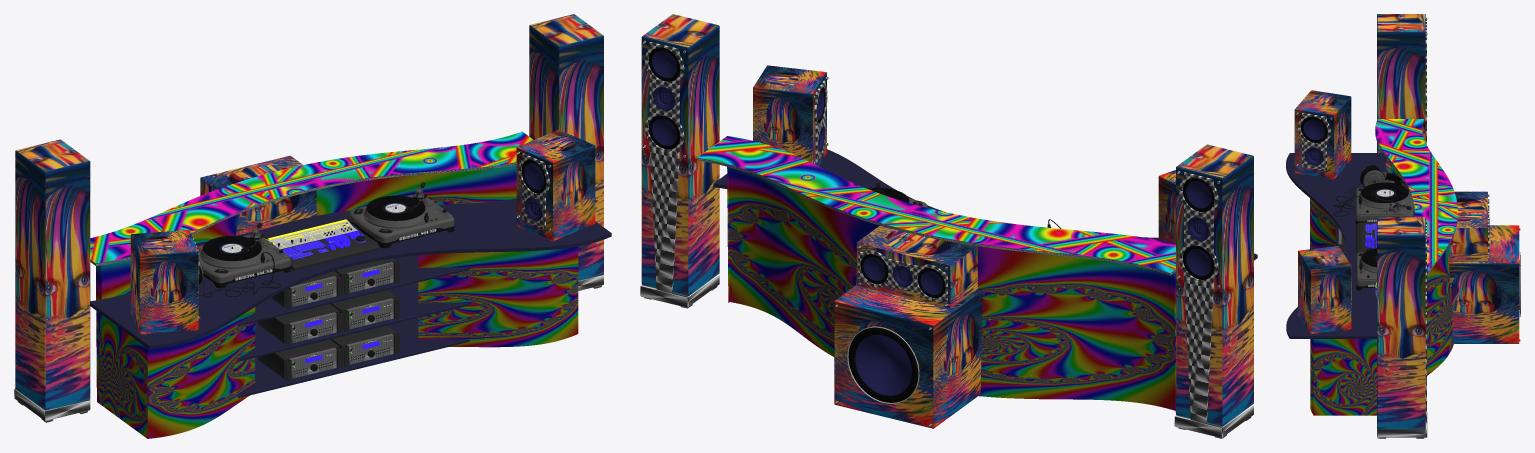
The model's file is dj-booth.glb.
3 views of the same model, side by side, from view 1: azimuth 30°, elevation 25°; view 2: azimuth 150°, elevation 25°; view 3: azimuth 270°, elevation 25° (orthographic). The views are drawn at different scales.
Parts seen in each view (by area): view 1: Object_81, Object_52, Object_4, Object_53, Object_5, Object_24, Object_84, Object_85, Object_23, Object_8, Object_25, Object_7 (+10 smaller); view 2: Object_81, Object_52, Object_53, Object_8, Object_16, Object_35, Object_32, Object_33, Object_39, Object_38, Object_4, Object_40 (+1 smaller); view 3: Object_81, Object_52, Object_4, Object_53, Object_85, Object_8, Object_84, Object_10, Object_37, Object_86, Object_82, Object_23 (+1 smaller).
Part boxes in pixels (x1,y1,x2,y2): Object_81: (15,14,603,410); Object_52: (96,164,578,438); Object_4: (90,198,611,349); Object_53: (90,131,533,265); Object_5: (238,255,469,398); Object_24: (258,258,399,380); Object_84: (348,182,454,248); Object_85: (197,222,290,288); Object_23: (280,225,378,270); Object_8: (14,152,603,420); Object_25: (284,261,399,345); Object_7: (268,221,357,249); Object_81: (641,14,1253,428); Object_52: (727,166,1175,412); Object_53: (697,136,1175,275); Object_8: (640,41,1253,437); Object_16: (645,42,1253,437); Object_35: (855,334,911,395); Object_32: (648,48,1211,402); Object_33: (649,47,1214,297); Object_39: (1186,181,1211,276); Object_38: (652,50,677,145); Object_4: (713,149,1257,260); Object_40: (863,257,943,294); Object_81: (1294,14,1519,429); Object_52: (1310,160,1453,415); Object_4: (1286,153,1414,338); Object_53: (1375,119,1457,298); Object_85: (1355,175,1413,224); Object_8: (1296,20,1489,437); Object_84: (1356,248,1376,290); Object_10: (1298,113,1330,170); Object_37: (1303,119,1325,165); Object_86: (1352,165,1401,196); Object_82: (1333,196,1410,279); Object_23: (1356,222,1376,253).
Size of what is drawn, in the model's own units: 4.53 by 1.97 by 2.03.
Materials: 16 (7 with a texture image).
